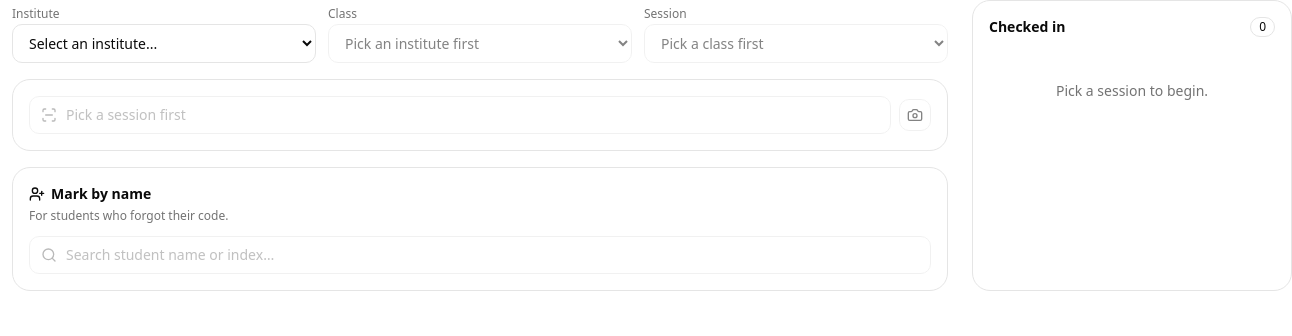
Test: StaffScanner — wedge scan › POSTs the scan on Enter and adds the student to the roster
This screenshot has width=1292, height=336.
Select "Nugegoda Centre · Nugegoda" in the dropdown named "Select institute" at (164, 44), box 12,24 -> 316,63
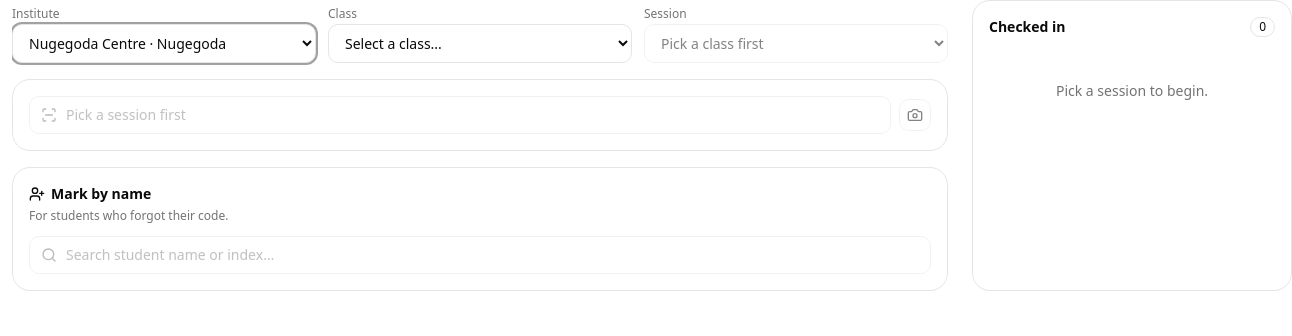
Select "Physics · 2026" in the dropdown named "Select class" at (480, 44), box 328,24 -> 632,63
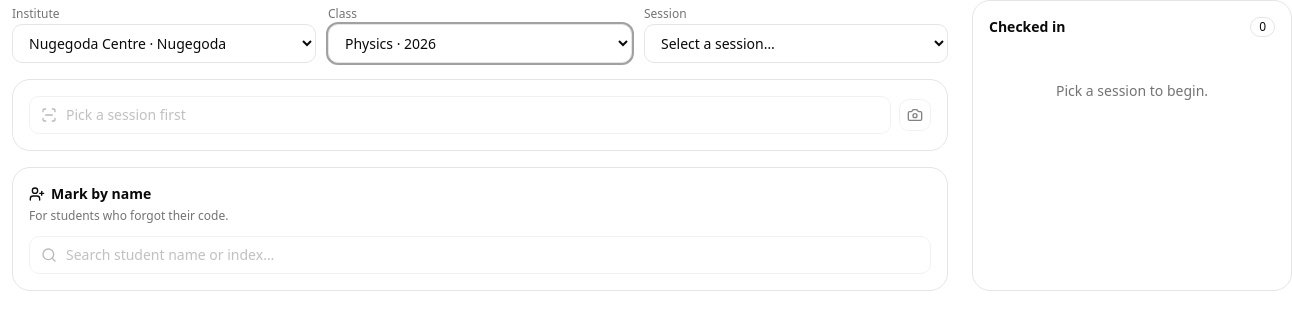
Select "Nov 21, 2026 · Today · Lecture 1" in the dropdown named "Select session" at (796, 44), box 644,24 -> 948,63
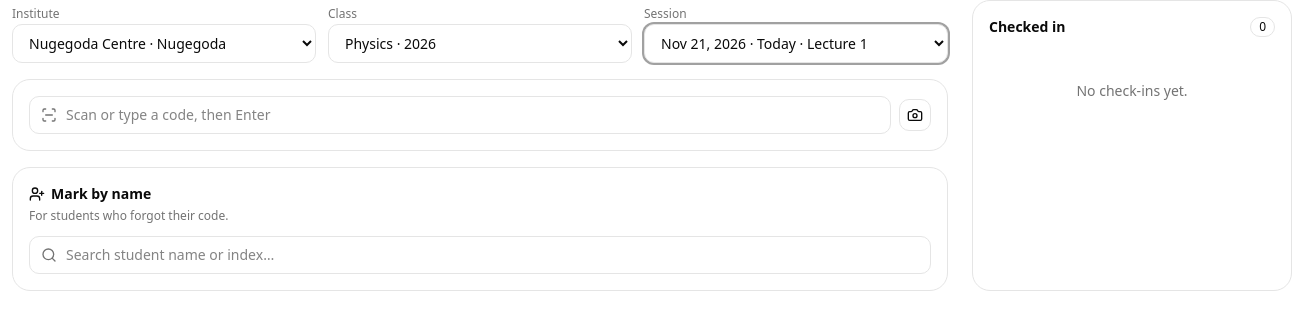
Type "LMS-042" into the field named "Scan code" at (460, 115), box 29,96 -> 891,134
Then press Enter
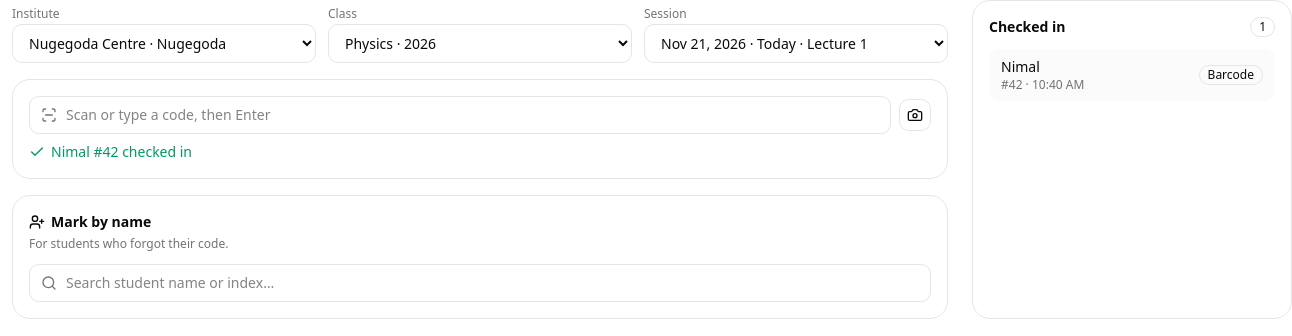
Expected: the text "Nimal" is shown, 1001,57 -> 1040,76
Expected: the text "Nimal #42 checked in" is shown, 29,142 -> 192,161
